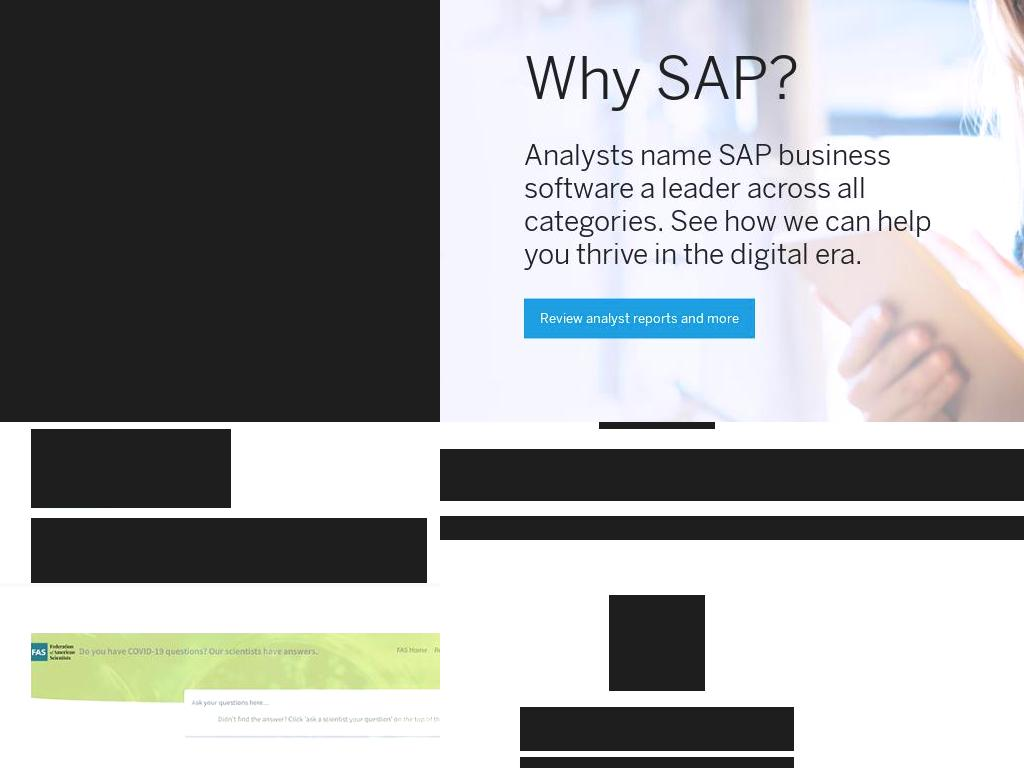button: (524, 298, 755, 339), (299, 518, 427, 583), (31, 518, 136, 583), (212, 518, 299, 583), (136, 518, 212, 583)
field: (520, 707, 794, 751), (520, 757, 794, 768)
heading: (440, 449, 1024, 501), (524, 47, 970, 111), (440, 516, 1024, 540)
image: (0, 0, 440, 422), (31, 633, 440, 768), (31, 429, 231, 508), (609, 595, 705, 691), (524, 298, 601, 339), (601, 298, 678, 339), (678, 298, 755, 339)
text: (524, 138, 970, 271), (0, 92, 258, 137), (540, 311, 739, 326), (314, 543, 412, 562), (46, 543, 121, 562), (227, 543, 284, 562), (151, 543, 197, 562), (0, 633, 31, 653)
